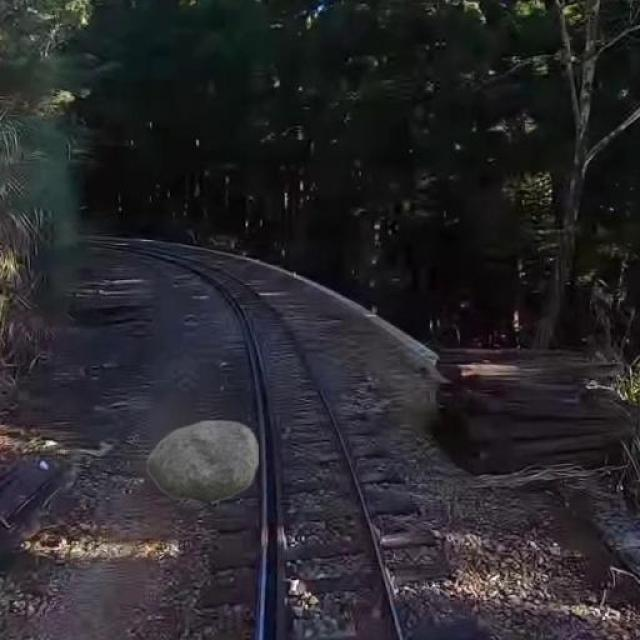Stone: (142, 411, 268, 509)
